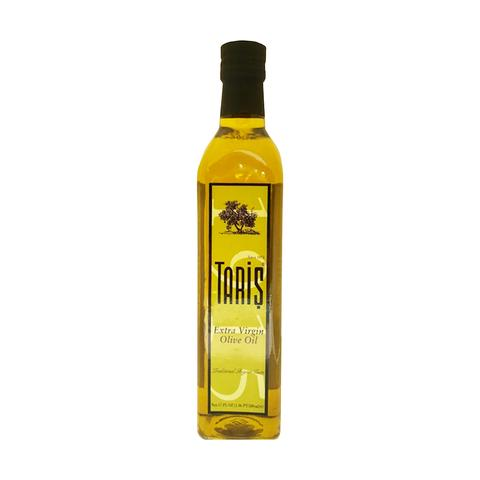glass_bottle: (182, 34, 300, 451)
